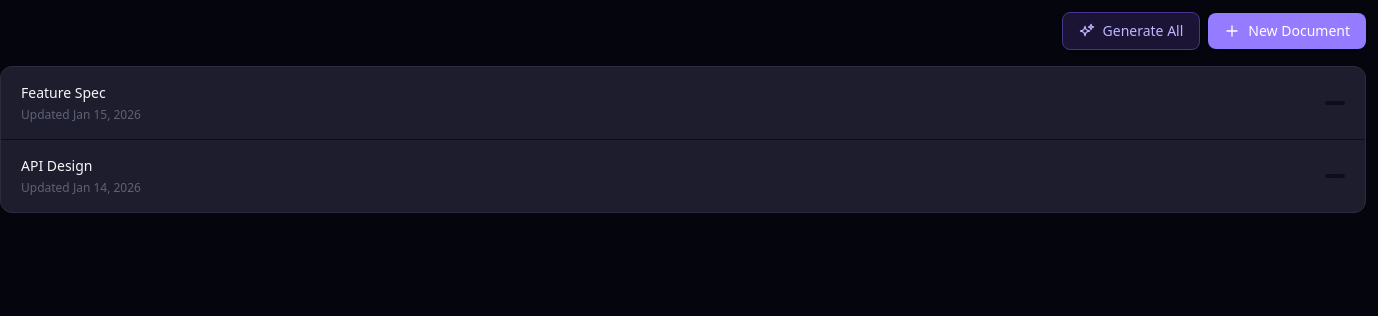
it: DocumentList › shows partial failure count in results
The width and height of the screenshot is (1378, 316).
Step 1. Click the button with test id "generate-all-btn" → {"x": 1131, "y": 31}, box [1062,12,1200,50]
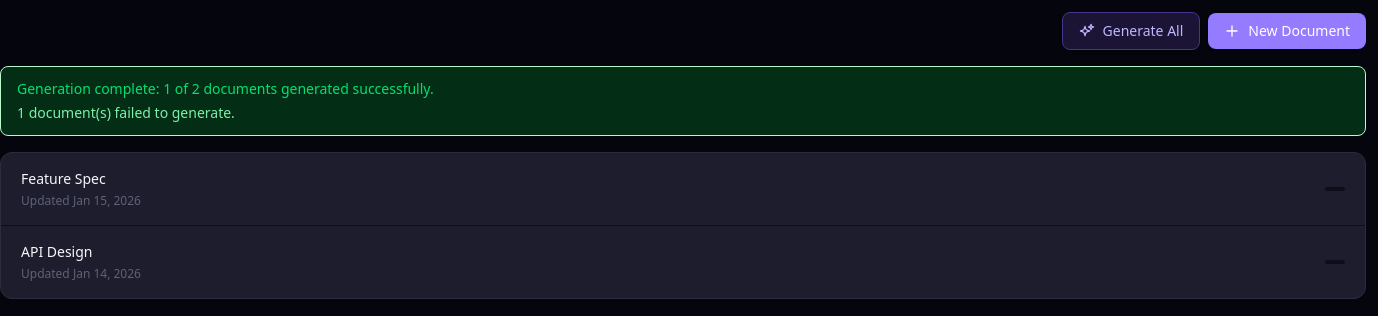
Expected: the element with test id "generate-all-result" is shown, [0,66,1366,136]
Expected: the text "1 of 2 documents generated successfully" is shown, [17,79,434,98]
Expected: the text "1 document(s) failed to generate." is shown, [17,103,235,122]
